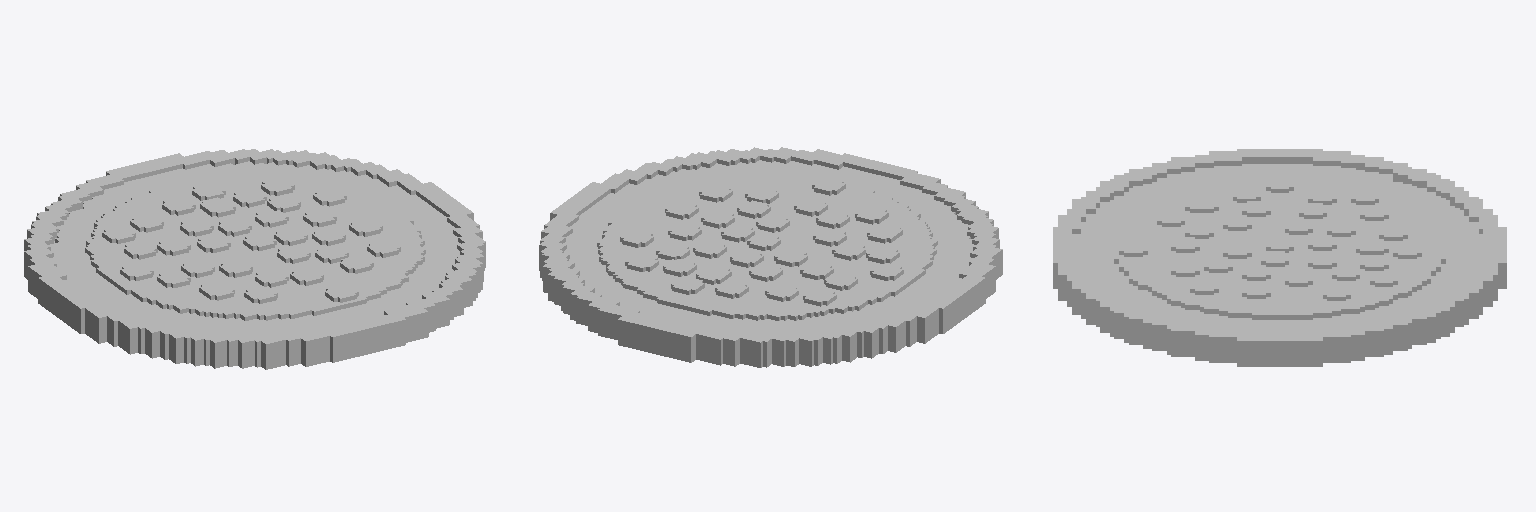
File: PlatoBasePizzaTomateQueso.obj
3 renders of one model, left to right at view 1: azimuth 30°, elevation 25°; view 2: azimuth 150°, elevation 25°; view 3: azimuth 270°, elevation 25°, orthographic.
Parts seen in each view (by area): view 1: object 1; view 2: object 1; view 3: object 1.
Boxes of the visible parts, box(x1,y1,x2,y2) form: object 1: box(24, 149, 485, 369); object 1: box(539, 147, 1002, 367); object 1: box(1053, 149, 1506, 366).
Size of the model in its own units: 9.6 by 0.7 by 9.6.